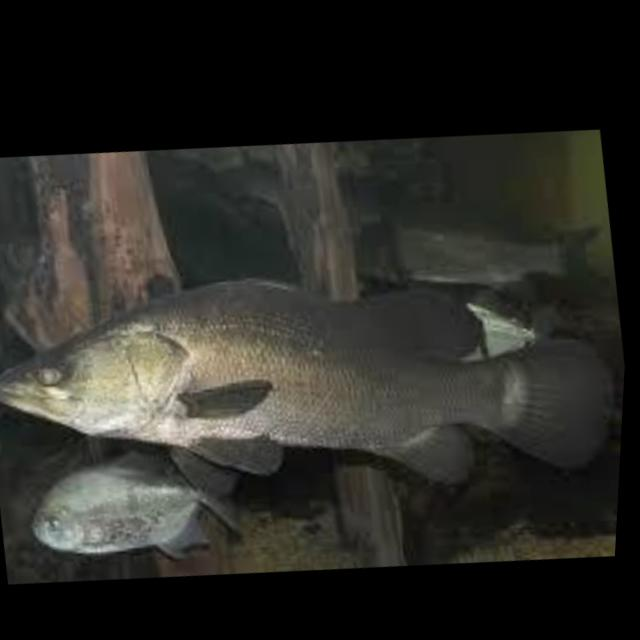Seabass: (0, 190, 629, 570)
